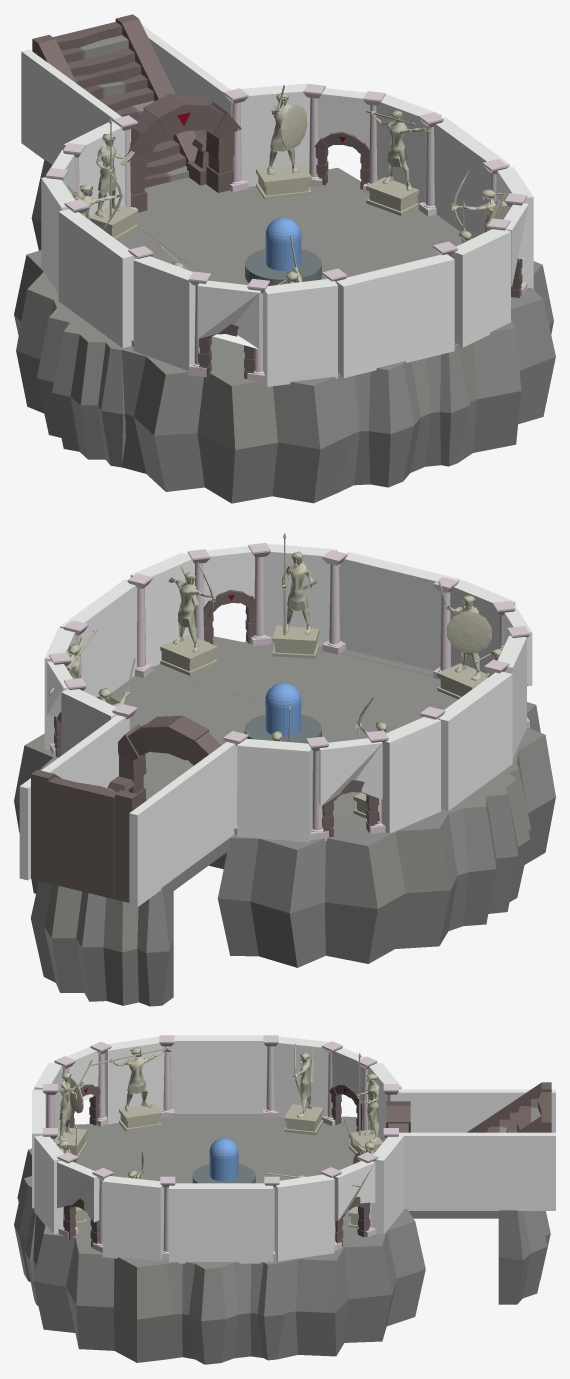
Rendered from CentralRoom.fbx.
The picture shows the model from 3 angles, top to bottom: view 1: azimuth 30°, elevation 25°; view 2: azimuth 150°, elevation 25°; view 3: azimuth 270°, elevation 25°; orthographic projection. The views are drawn at different scales.
Parts seen in each view (by area): view 1: CentralHub; view 2: CentralHub; view 3: CentralHub.
Boxes of the visible parts, bbox=[...] form: CentralHub: bbox=[14, 14, 555, 503]; CentralHub: bbox=[14, 533, 555, 1006]; CentralHub: bbox=[14, 1035, 555, 1364].
Size of the model in its own units: 2923 by 1463 by 3715.
